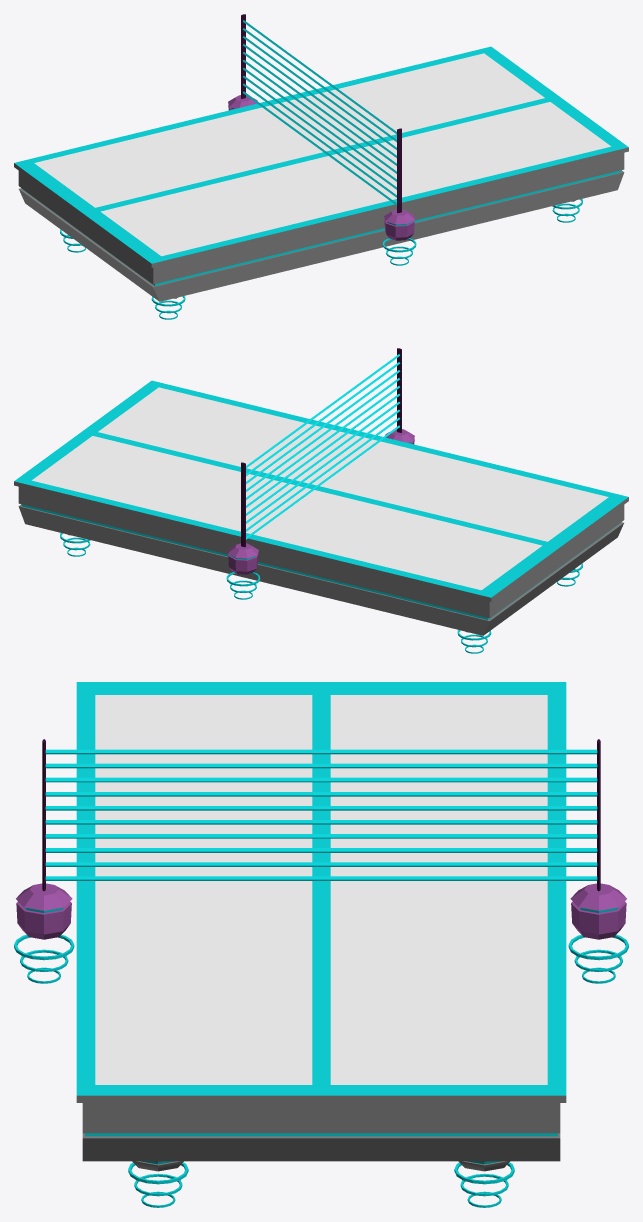
Rendered from Pong_Table.fbx.
3 views of the same model, one above another, from view 1: azimuth 30°, elevation 25°; view 2: azimuth 150°, elevation 25°; view 3: azimuth 270°, elevation 25° (orthographic). The views are drawn at different scales.
Visible parts, largest first — view 1: Ping_Pong_Table, Red_2, Red; view 2: Ping_Pong_Table, Red_2, Red; view 3: Ping_Pong_Table, Red_2, Red, Platform.001.
Boxes of the visible parts, x1,y1,x2,y2 form: Ping_Pong_Table: [14, 46, 628, 301]; Red_2: [242, 20, 396, 205]; Red: [228, 14, 414, 240]; Ping_Pong_Table: [14, 380, 628, 635]; Red_2: [246, 354, 400, 539]; Red: [228, 348, 414, 574]; Ping_Pong_Table: [76, 682, 566, 1161]; Red_2: [45, 749, 597, 880]; Red: [16, 739, 626, 939]; Platform.001: [132, 1161, 509, 1171].
Bounding box in the file's own units: 1200 × 389 × 754.
